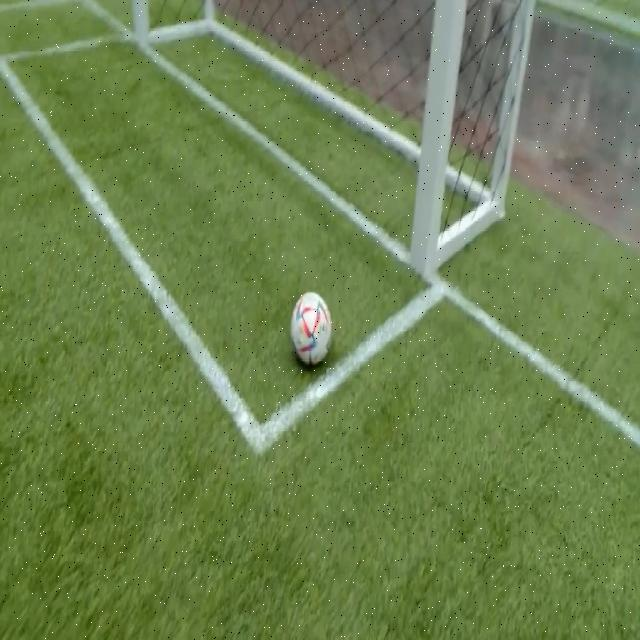ball: (290, 292, 332, 366)
goalpost: (402, 217, 449, 286), (127, 0, 156, 60)
